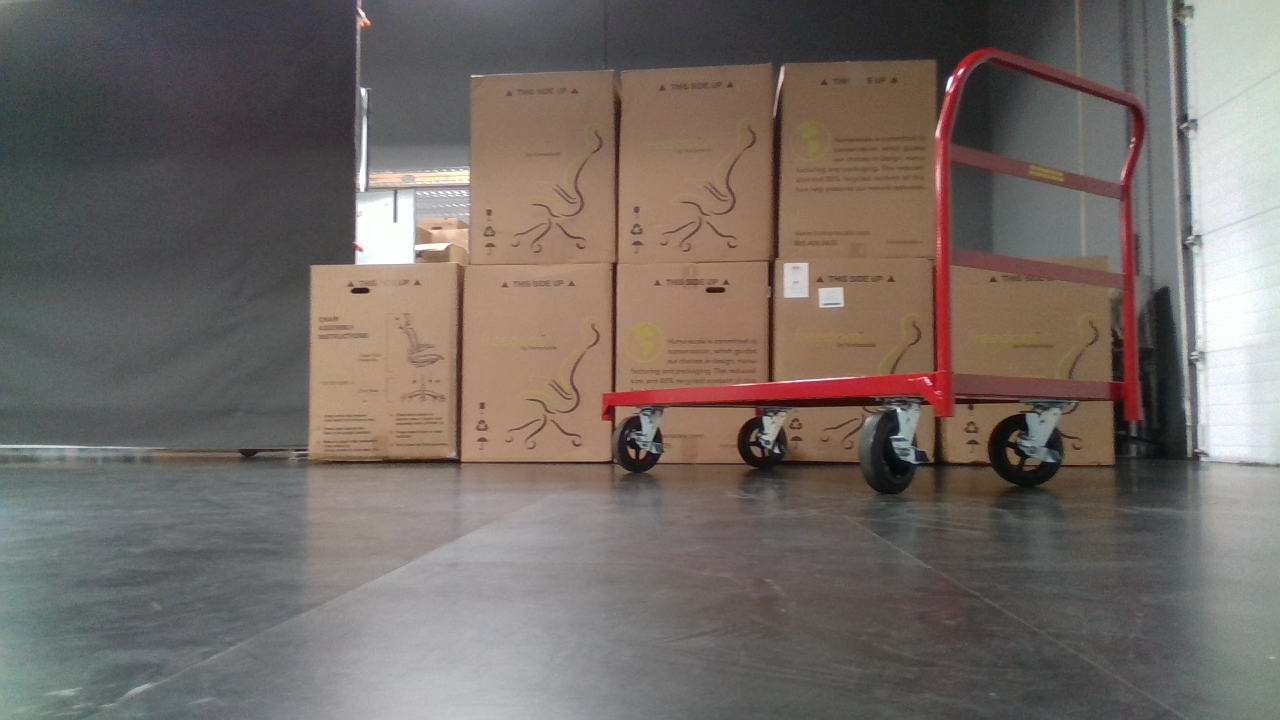Dolly: (596, 34, 1153, 497)
Wheel: (986, 412, 1069, 492), (860, 402, 924, 497), (606, 411, 669, 477), (735, 409, 791, 474)
